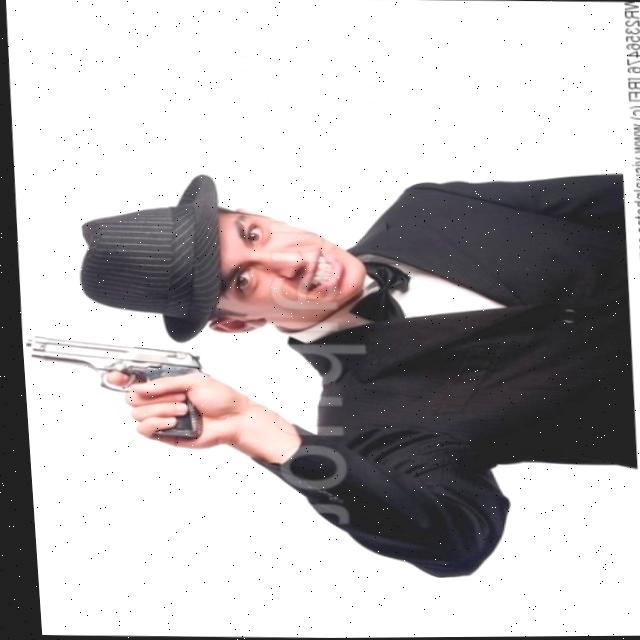pistol: (17, 330, 199, 394)
